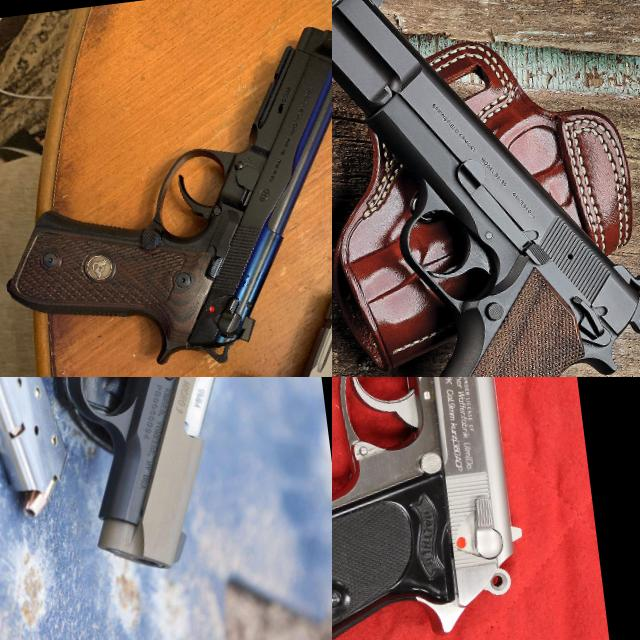handgun: (0, 12, 332, 377), (332, 0, 640, 377), (0, 377, 305, 632), (332, 377, 538, 640), (56, 271, 332, 377)
